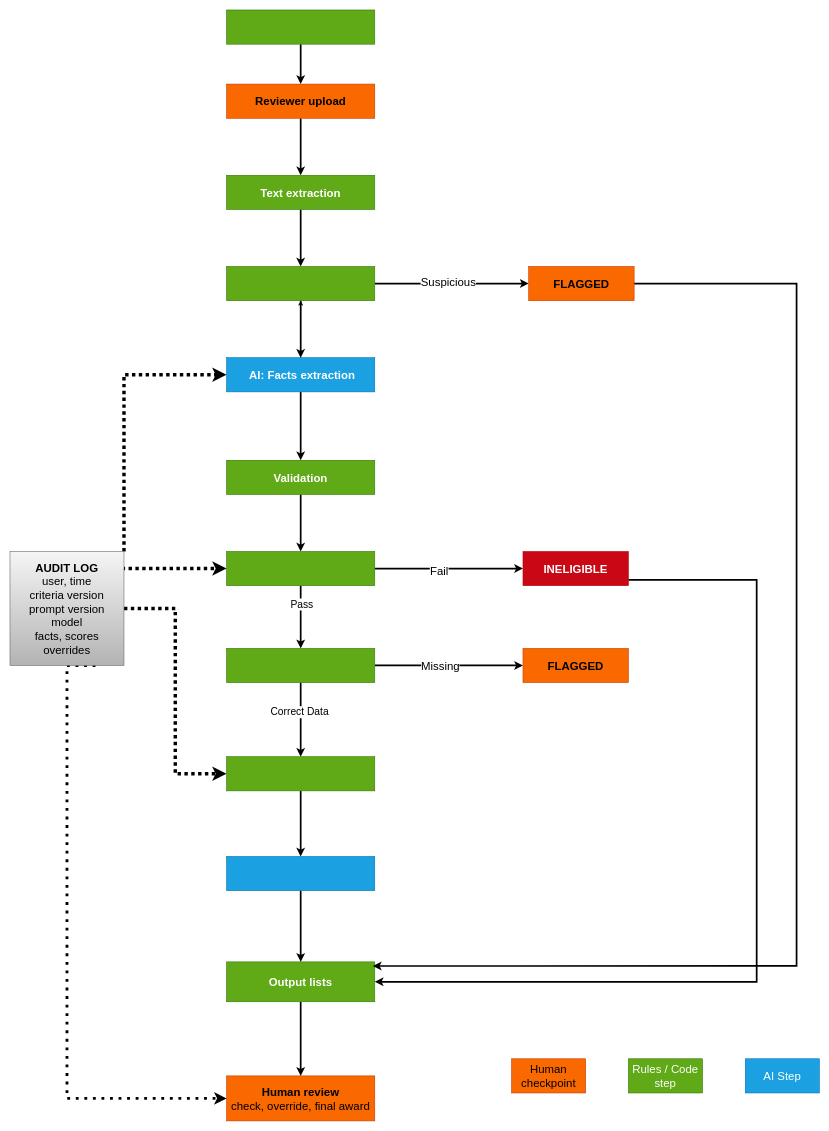
Image size: 829x1131. Some labels were removed from this diagram. The shapes that lost their labels are listed below. From the top down, each one's centre as x and y in pixels, then its label:
the point at 300,26: Admin criteria
the point at 300,283: Injection scan
the point at 300,568: Mandatory check
the point at 300,665: Missing data check
the point at 300,773: Weighted score
the point at 300,873: AI: Write reason
